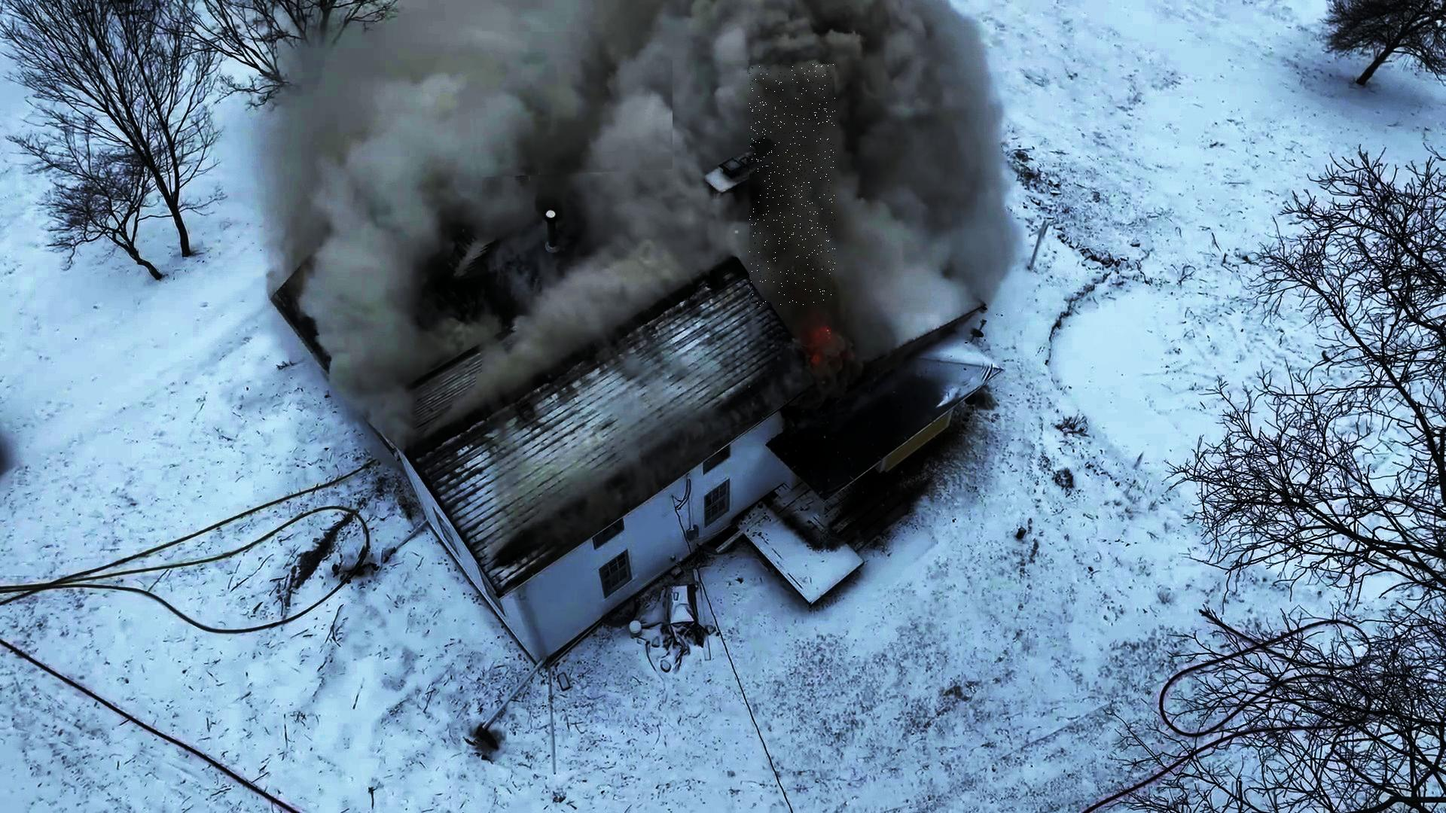smoke: (467, 32, 673, 180), (750, 64, 835, 306)
